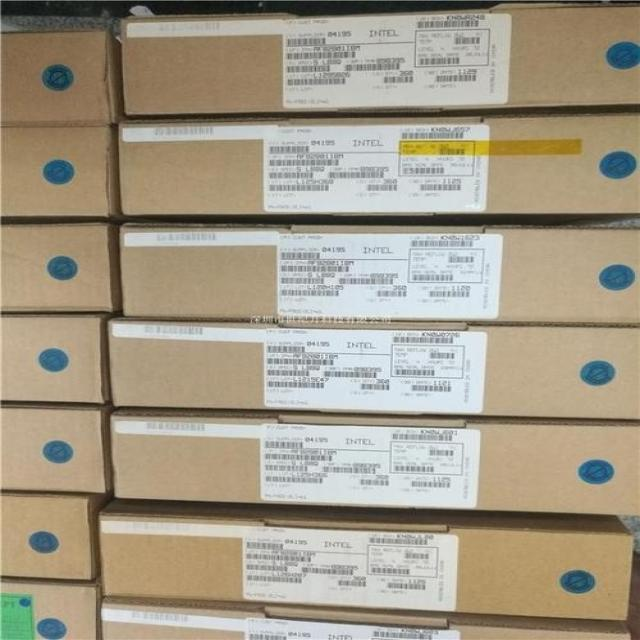box: (99, 499, 635, 621), (115, 106, 639, 225), (120, 2, 639, 116), (111, 409, 640, 516), (108, 316, 640, 420), (120, 223, 640, 328), (100, 597, 632, 640), (0, 126, 159, 224), (1, 32, 124, 128), (0, 310, 120, 404), (0, 223, 120, 313), (0, 489, 114, 583), (0, 400, 113, 493), (0, 580, 101, 640)
